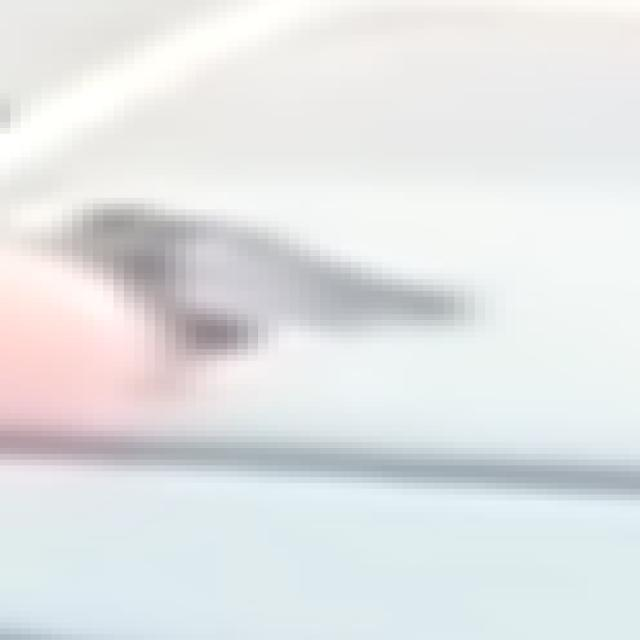FPistol: (90, 190, 486, 374)
